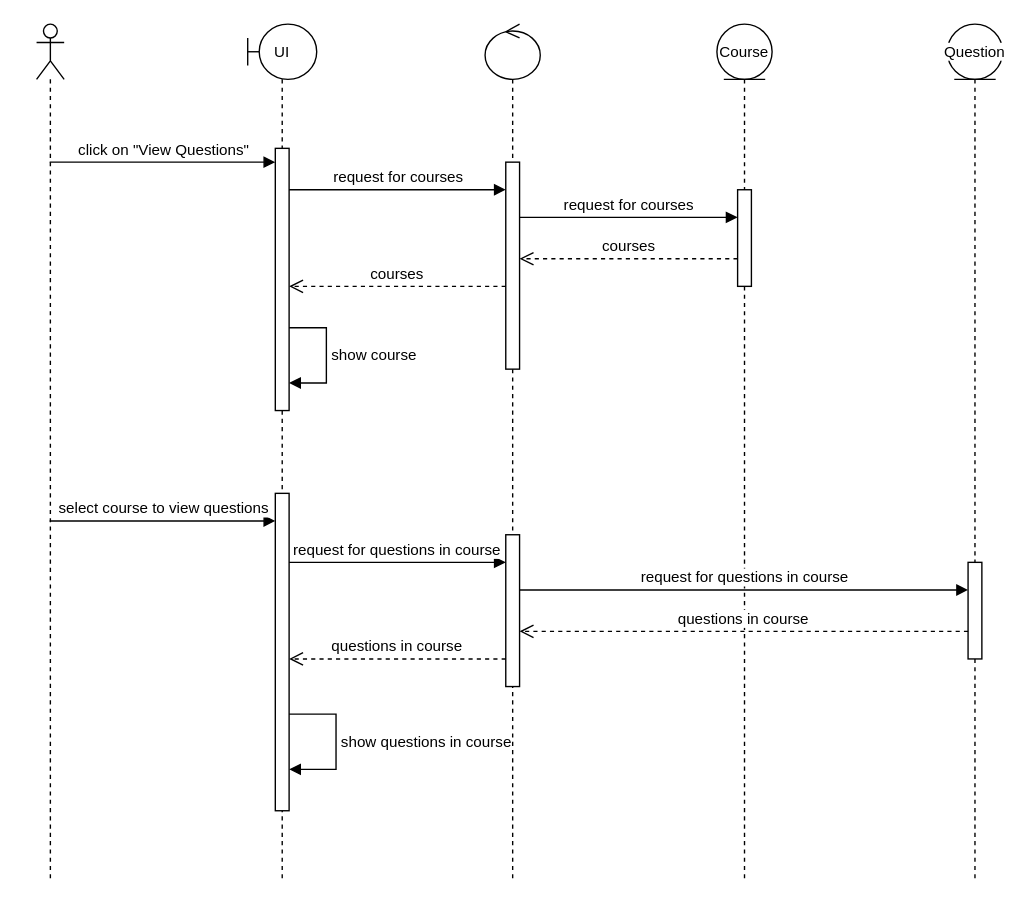
The diagram is 1029 pixels wide and 904 high, and some of its shapes have lost their labels. Here are the shapes that lost their labels. From the top down, the box of each, then its label:
(35, 23, 64, 880): Teacher
(484, 23, 540, 880): View Controller
